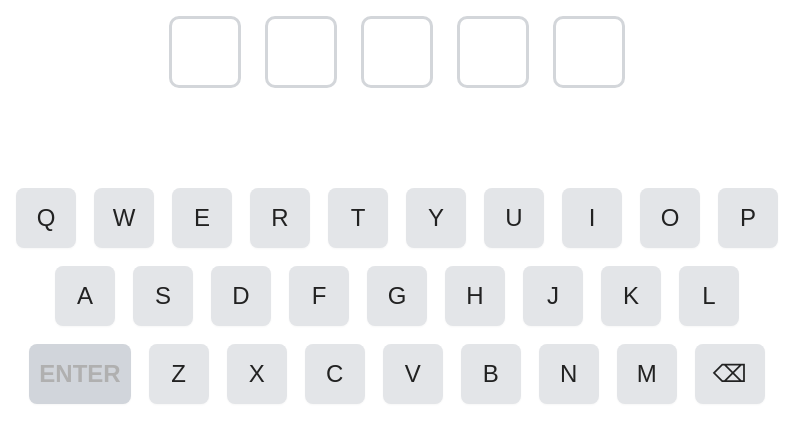
Test case: WordGame › add letters in the cases by clicking on the keyboard
Click the button "A" at x=85, y=296, box x1=55 y1=266 x2=115 y2=326
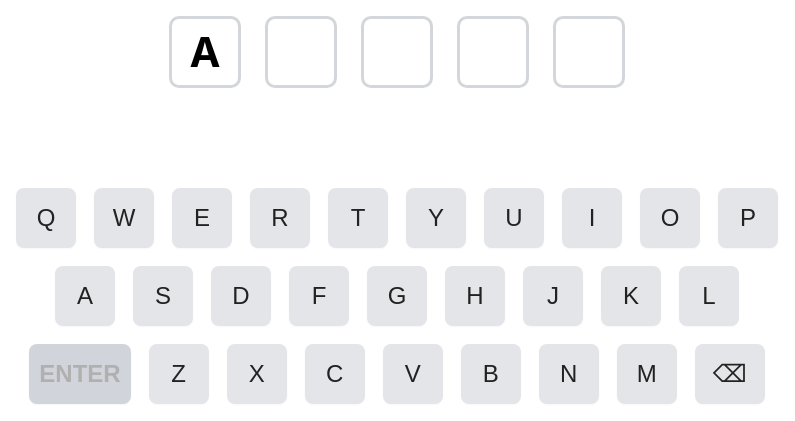
Click the button "B" at x=491, y=374, box x1=461 y1=344 x2=521 y2=404
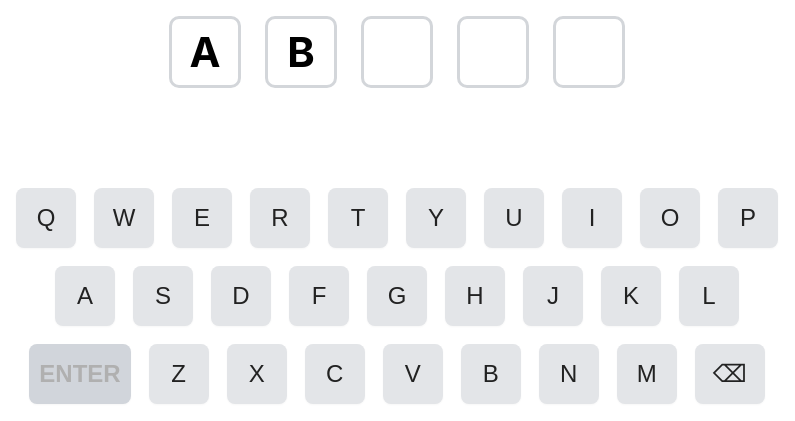
Click the button "C" at x=335, y=374, box x1=305 y1=344 x2=365 y2=404
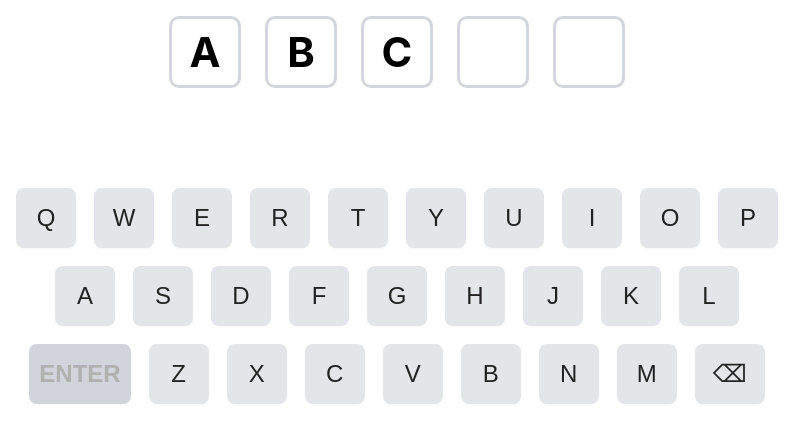
Result: the text "A" is shown at x1=169 y1=16 x2=241 y2=88
Result: the text "B" is shown at x1=265 y1=16 x2=337 y2=88
Result: the text "C" is shown at x1=361 y1=16 x2=433 y2=88
